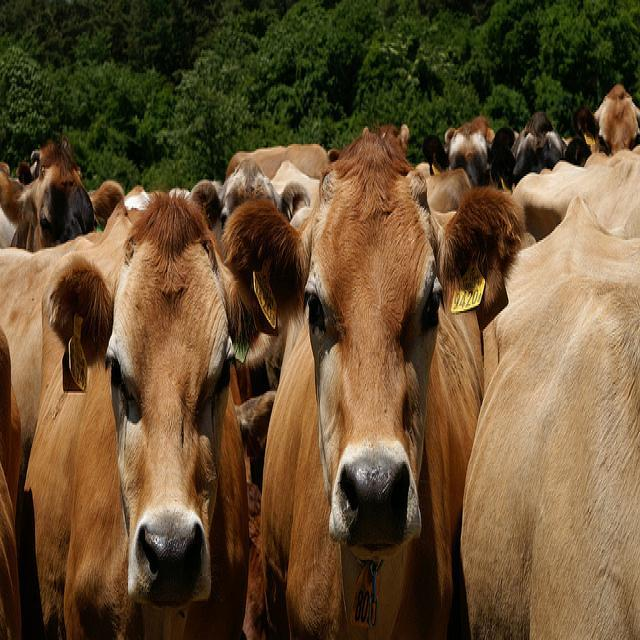cow: (218, 118, 486, 639), (16, 180, 278, 628), (462, 189, 639, 631), (0, 176, 131, 464), (442, 183, 534, 324), (17, 132, 92, 253), (187, 157, 272, 246), (571, 82, 639, 155), (225, 143, 327, 182), (443, 115, 494, 185), (511, 128, 562, 183), (421, 167, 469, 212)
